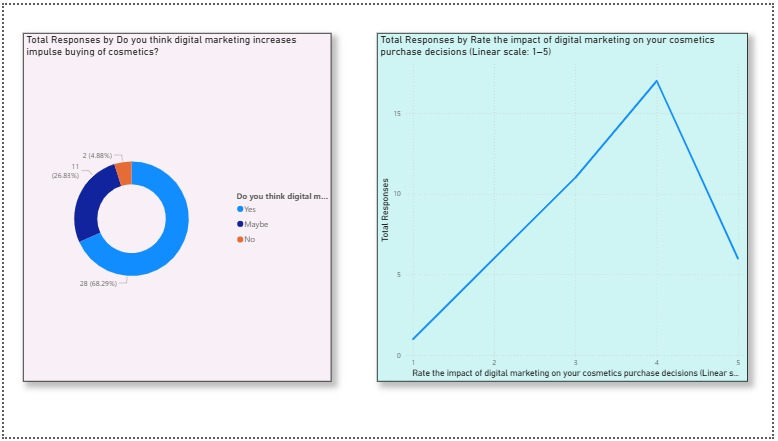

Layout of this report page (visuals, bound fields, positions):
{"tool":"powerbi","page":{"name":"Page 5","canvas":[1280,720],"ordinal":1},"visuals":[{"type":"donutChart","fields":{"Category":["Form responses 1.Do you think digital marketing increases impulse buying of cosmetics?  "],"Y":["Form responses 1.Total Responses"]},"box":[32.2,46.8,513.7,581],"z":0},{"type":"lineChart","fields":{"Category":["Form responses 1.Rate the impact of digital marketing on your cosmetics purchase decisions    (Linear scale: 1–5)  "],"Y":["Form responses 1.Total Responses"]},"box":[622,46.8,617.6,581],"z":1000}]}

Visuals, with their boxes in screenshot pixels (x1, y1, x2, y2), scaled from the page's 1280x720 canvas onto the 778x441 screenshot:
donutChart - Form responses 1.Do you think digital marketing increases impulse buying of cosmetics?   x Form responses 1.Total Responses: 20,29,332,385
lineChart - Form responses 1.Rate the impact of digital marketing on your cosmetics purchase decisions    (Linear scale: 1–5)   x Form responses 1.Total Responses: 378,29,753,385
